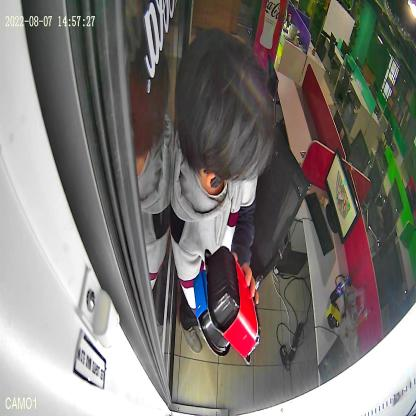blue: (194, 269, 232, 357)
red: (204, 245, 261, 370)
